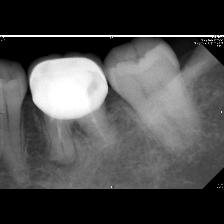apical_lesion: (28, 54, 135, 189)
